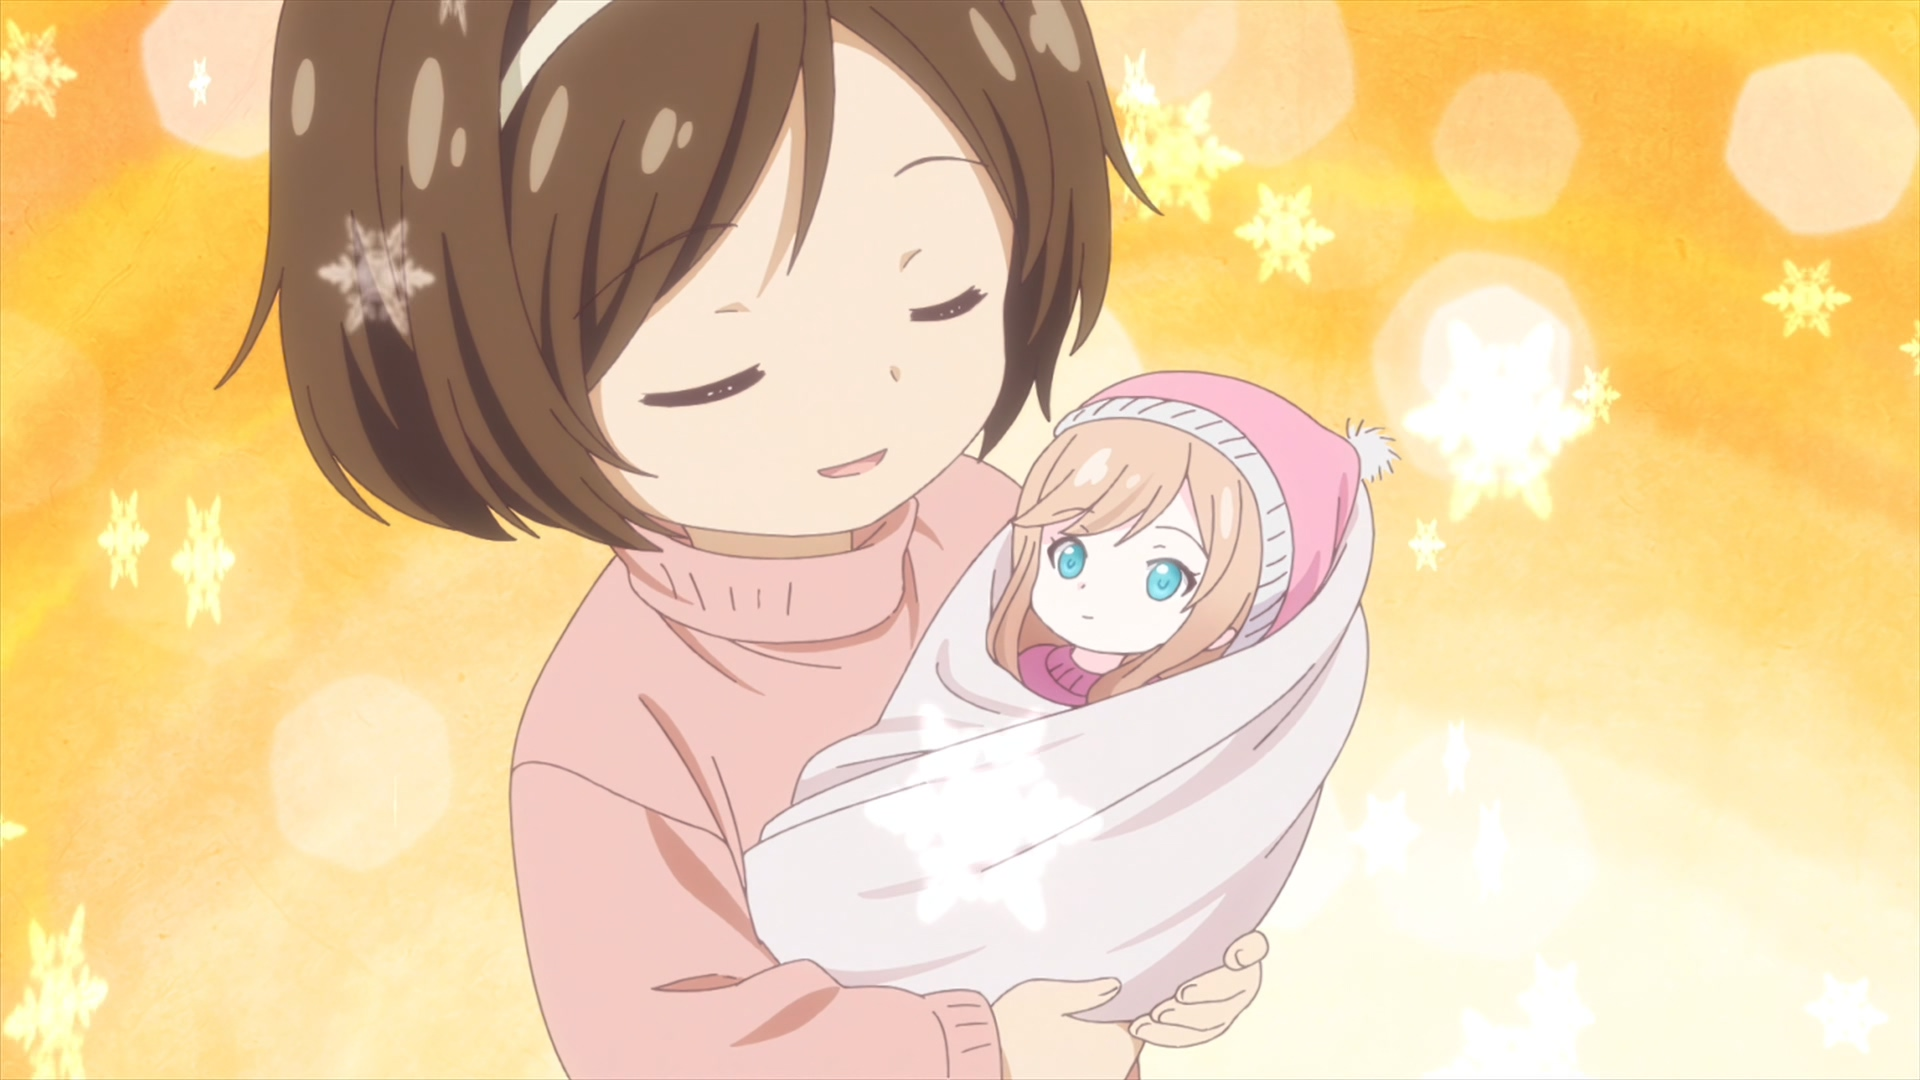其他: (215, 1, 1270, 1080), (744, 372, 1396, 1025)
